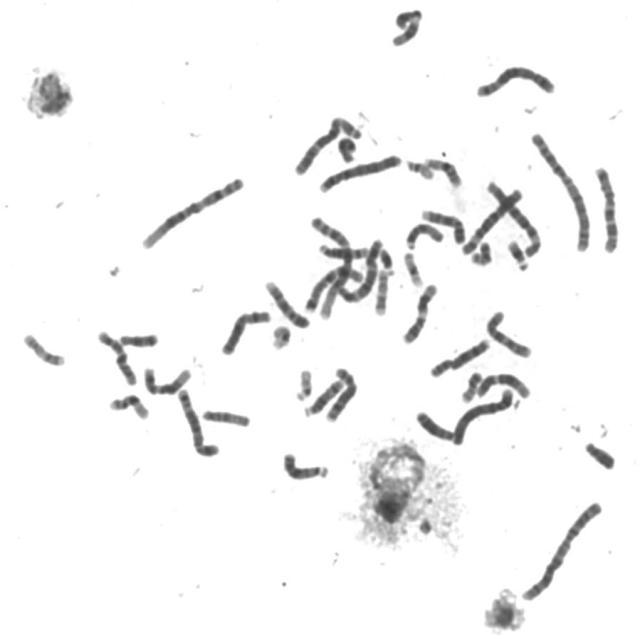A1: (136, 171, 247, 251), (307, 211, 359, 320)
A2: (517, 494, 605, 604), (527, 127, 593, 253)
A3: (290, 110, 364, 176), (324, 236, 389, 305)
B4: (448, 383, 516, 447), (314, 148, 403, 194)
B5: (173, 383, 221, 459), (472, 60, 558, 99)
C10: (481, 305, 535, 360), (93, 324, 138, 387)
C11: (398, 278, 440, 346), (388, 4, 424, 48)
C12: (139, 360, 193, 397), (472, 368, 532, 400)
C6: (482, 175, 543, 258), (457, 182, 525, 256)
C7: (301, 261, 365, 315), (589, 160, 621, 256)
C8: (425, 333, 492, 379), (322, 362, 359, 424)
C9: (260, 276, 312, 330), (418, 204, 468, 245)
D13: (278, 447, 331, 482), (412, 406, 458, 444)
D14: (299, 374, 346, 419), (315, 239, 371, 261)
D15: (401, 218, 445, 251), (197, 404, 251, 428)
E16: (419, 153, 464, 190), (105, 389, 150, 421)
E17: (18, 327, 67, 368), (369, 264, 392, 317)
E18: (114, 328, 160, 348), (336, 136, 359, 164)
F19: (398, 247, 426, 288), (266, 320, 293, 351)
F20: (457, 367, 483, 404), (466, 235, 495, 268)
G21: (503, 235, 531, 272), (376, 244, 396, 273)
G22: (291, 364, 315, 403), (402, 154, 436, 180)
X: (216, 305, 272, 357)
Y: (580, 436, 618, 471)
